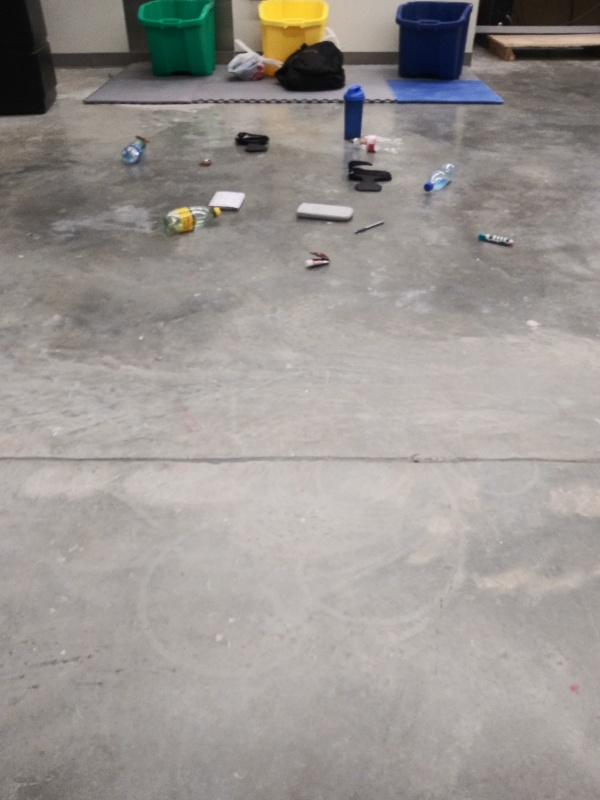bottle: (156, 201, 226, 241), (420, 158, 463, 196), (348, 132, 408, 157), (119, 137, 144, 164)
